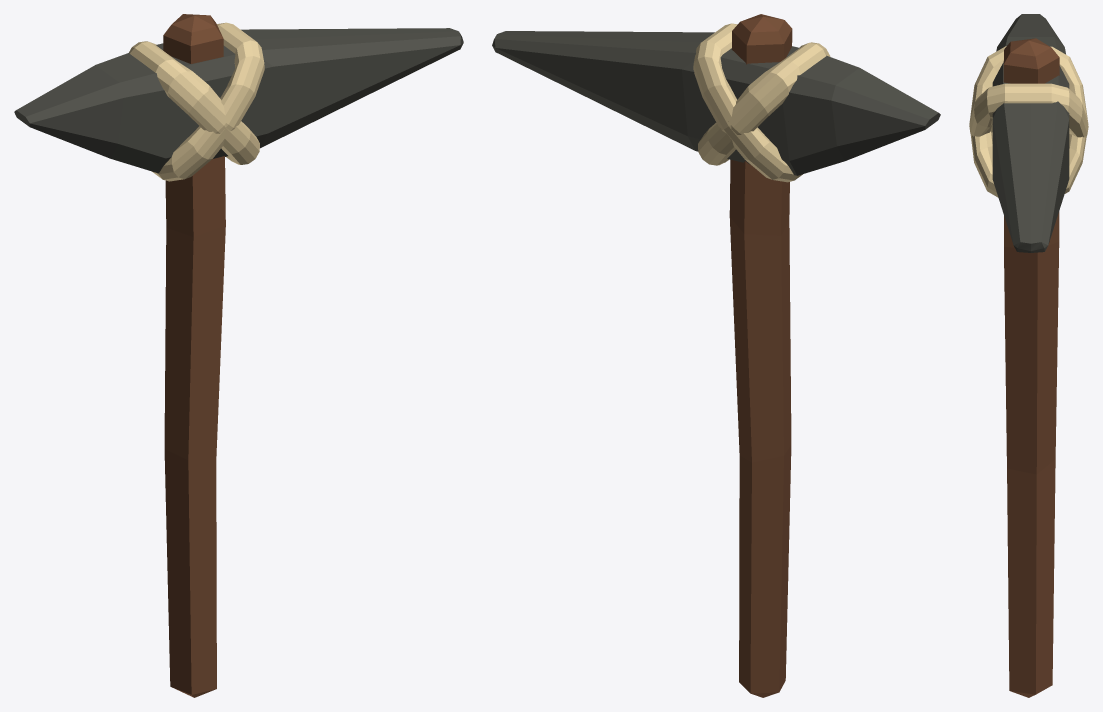
Rendered from StonePickaxe.fbx.
3 renders of one model, left to right at view 1: azimuth 30°, elevation 25°; view 2: azimuth 150°, elevation 25°; view 3: azimuth 270°, elevation 25°, orthographic. The views are drawn at different scales.
Parts seen in each view (by area): view 1: Wooden Pickaxe.002; view 2: Wooden Pickaxe.002; view 3: Wooden Pickaxe.002.
Boxes of the visible parts, left/top/right/bottom form: Wooden Pickaxe.002: left=14, top=14, right=463, bottom=697; Wooden Pickaxe.002: left=492, top=14, right=940, bottom=697; Wooden Pickaxe.002: left=969, top=14, right=1088, bottom=697.
Bounding box in the file's own units: 293 × 433 × 71.1.
